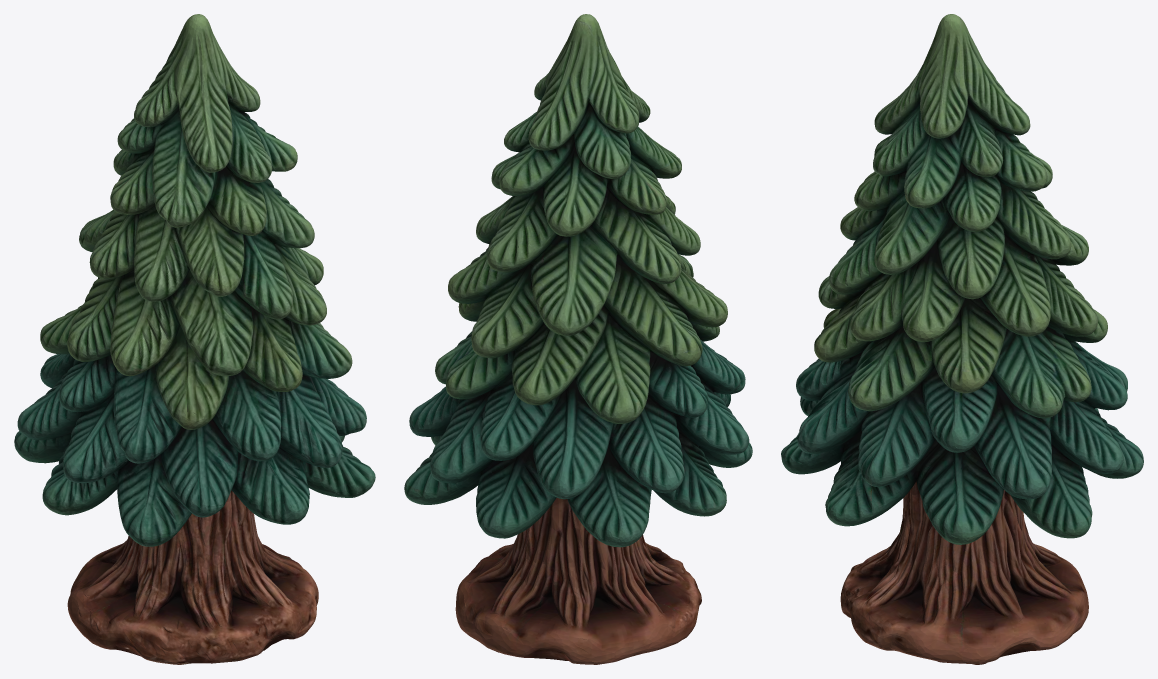
File: douglas-fir.glb
3 views of the same model, side by side, from view 1: azimuth 30°, elevation 25°; view 2: azimuth 150°, elevation 25°; view 3: azimuth 270°, elevation 25° (orthographic).
Parts seen in each view (by area): view 1: world; view 2: world; view 3: world.
Boxes of the visible parts, left/top/right/bottom form: world: left=14, top=14, right=375, bottom=664; world: left=404, top=14, right=752, bottom=664; world: left=781, top=14, right=1143, bottom=664.
Size of the model in its own units: 0.5143 by 0.9992 by 0.5465.
Materials: 1 (1 with a texture image).
